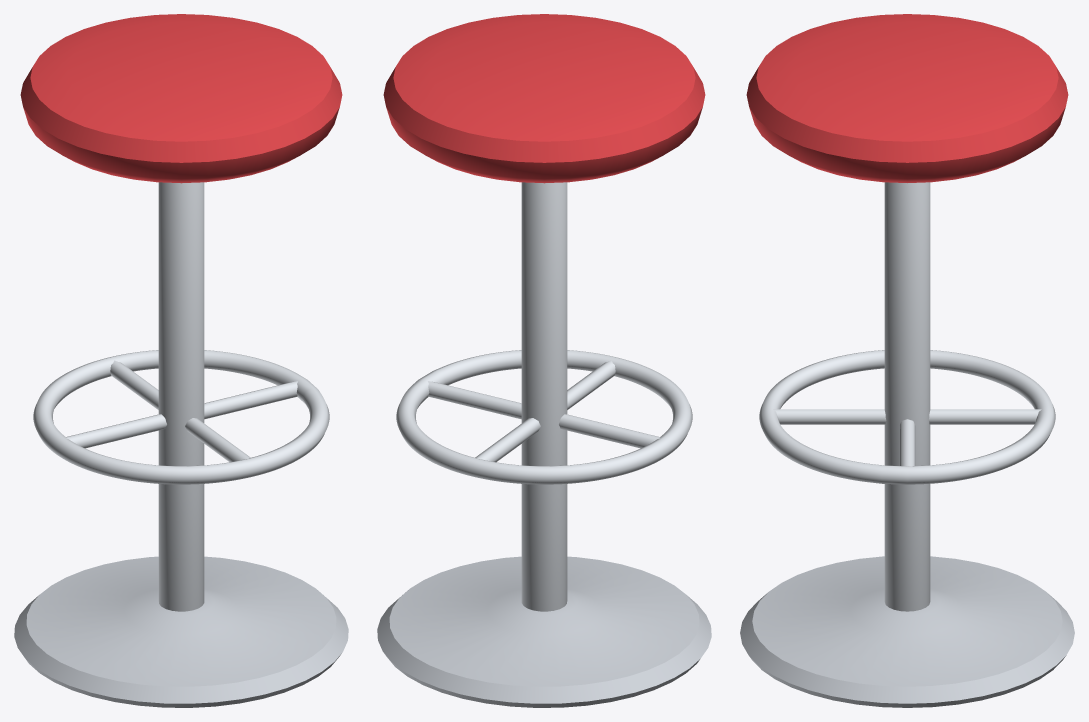
Rendered from banqueta_bar_giratoria_vermelha.glb.
3 views of the same model, side by side, from view 1: azimuth 30°, elevation 25°; view 2: azimuth 150°, elevation 25°; view 3: azimuth 270°, elevation 25° (orthographic).
Visible parts, largest first — view 1: banqueta_bar_giratoria_vermelha; view 2: banqueta_bar_giratoria_vermelha; view 3: banqueta_bar_giratoria_vermelha.
Boxes of the visible parts, x1,y1,x2,y2 form: banqueta_bar_giratoria_vermelha: (14,14,348,707); banqueta_bar_giratoria_vermelha: (377,14,711,707); banqueta_bar_giratoria_vermelha: (740,14,1074,707).
Size of the model in its own units: 0.41 by 0.771 by 0.41.
1 material, 1 textured.
